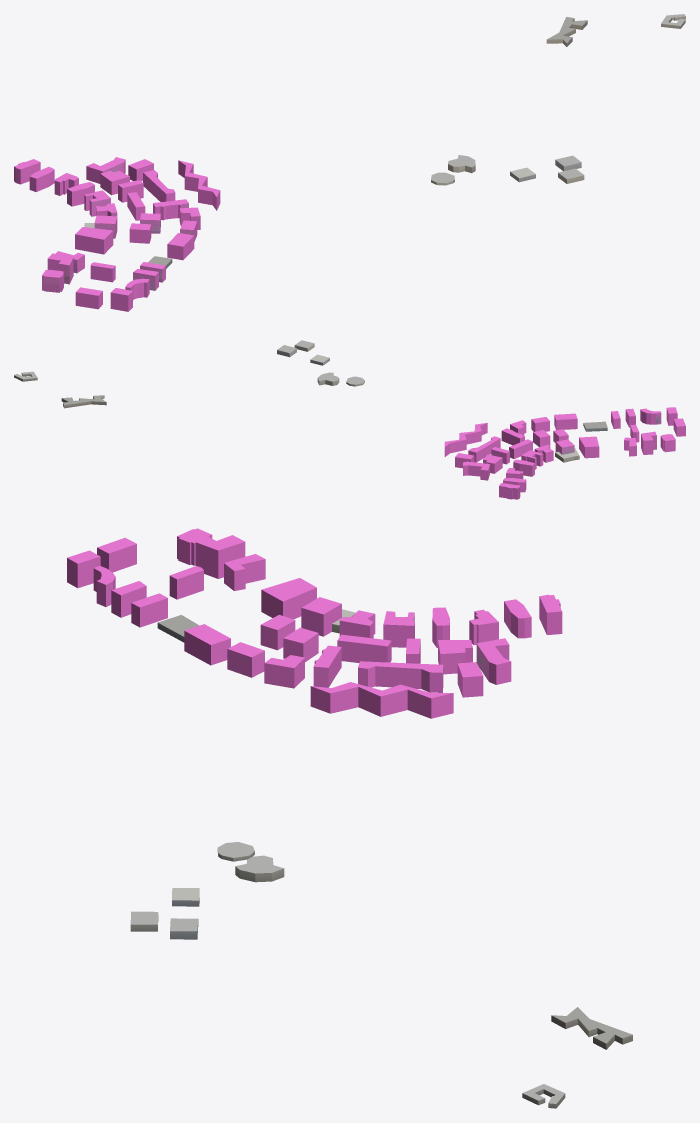
The model's file is bld_19_5.fbx.
3 views of the same model, one above another, from view 1: azimuth 30°, elevation 25°; view 2: azimuth 150°, elevation 25°; view 3: azimuth 270°, elevation 25° (orthographic). The views are drawn at different scales.
Parts seen in each view (by area): view 1: bld_19_5_COL, bld_19_5_LOD0; view 2: bld_19_5_COL, bld_19_5_LOD0; view 3: bld_19_5_COL, bld_19_5_LOD0.
Part boxes in pixels (x1,y1,x2,y2): bld_19_5_COL: (14, 157, 220, 311); bld_19_5_LOD0: (44, 14, 685, 292); bld_19_5_COL: (444, 407, 685, 499); bld_19_5_LOD0: (14, 340, 660, 462); bld_19_5_COL: (67, 528, 562, 718); bld_19_5_LOD0: (130, 609, 632, 1108).
Size of what is drawn, in the model's own units: 1984 by 47.31 by 851.
